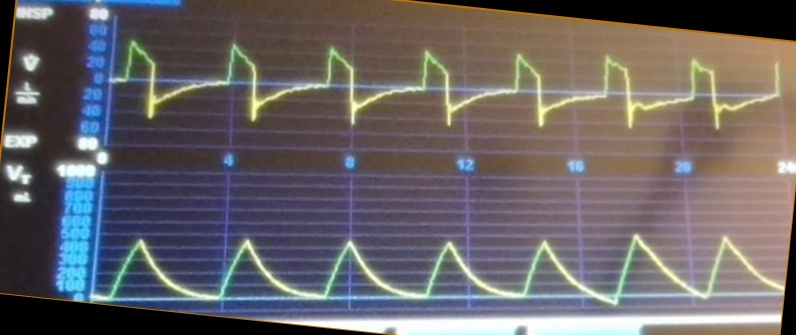Premature_cycling Flow: (115, 37, 781, 141)
Premature_cycling Volume: (107, 227, 781, 305)
